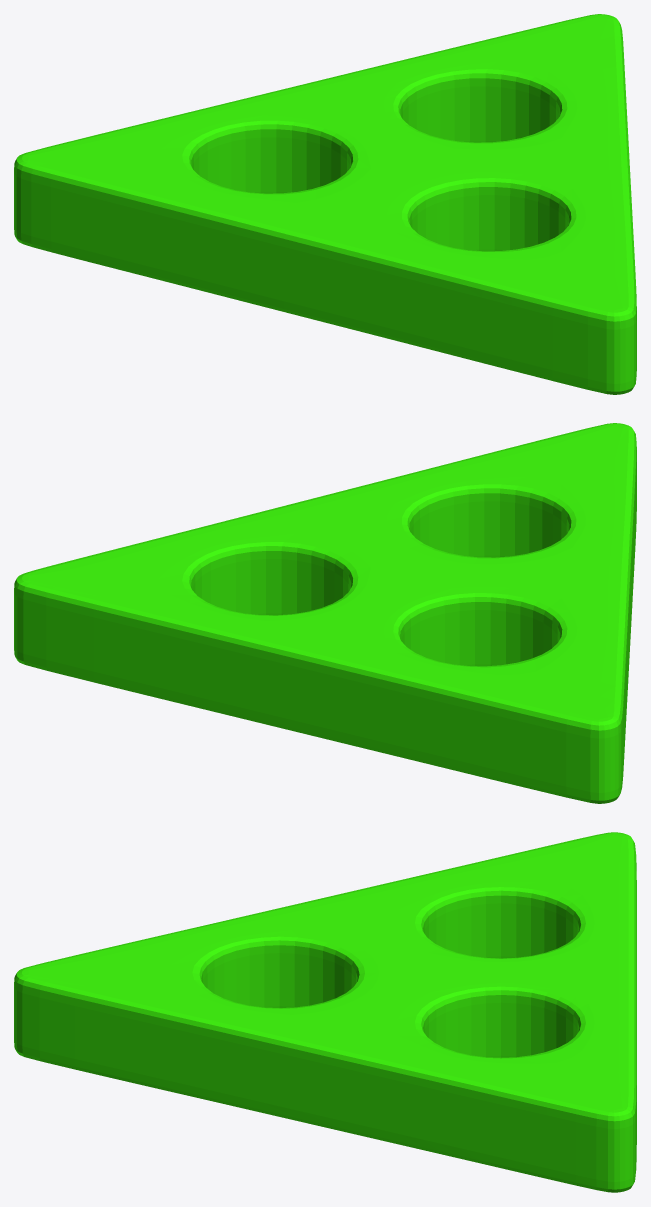
File: triangle.obj
3 views of the same model, one above another, from view 1: azimuth 30°, elevation 25°; view 2: azimuth 150°, elevation 25°; view 3: azimuth 270°, elevation 25° (orthographic). The views are drawn at different scales.
Size of the model in its own units: 0.0506 by 0.00658 by 0.0466.
